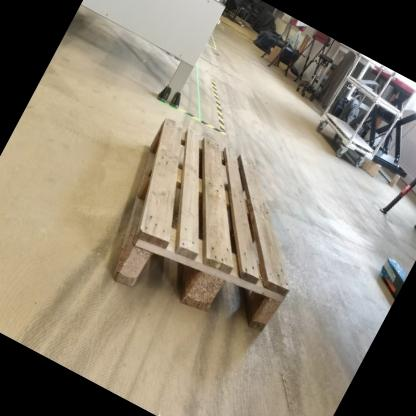BoxFace: (102, 112, 301, 346)
